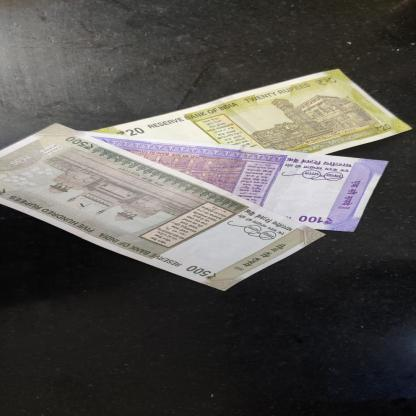New100Back: (80, 130, 392, 232)
New20Back: (84, 68, 416, 155)
New500Back: (0, 122, 330, 293)
